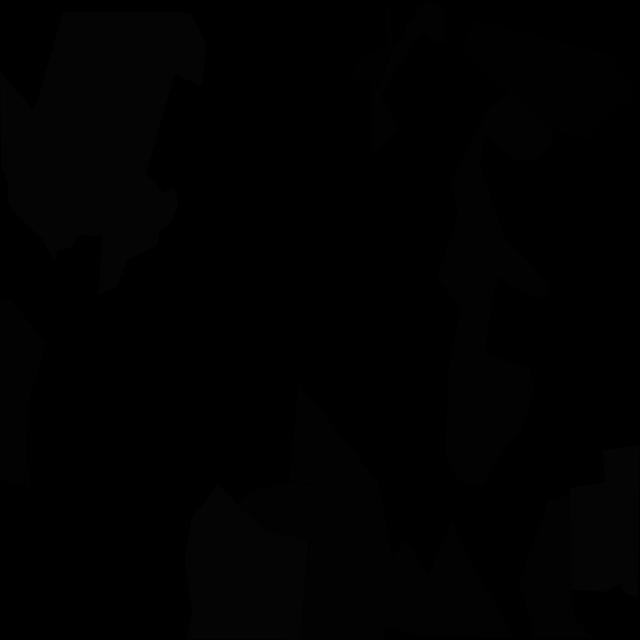cardboard: (289, 382, 594, 639), (437, 193, 550, 487), (236, 482, 385, 640), (451, 93, 554, 236), (374, 0, 444, 151), (0, 297, 46, 488)
rigid_plastic: (461, 19, 639, 141), (354, 8, 393, 157)
soft_plastic: (0, 12, 206, 294), (184, 484, 309, 640), (570, 445, 640, 597)
